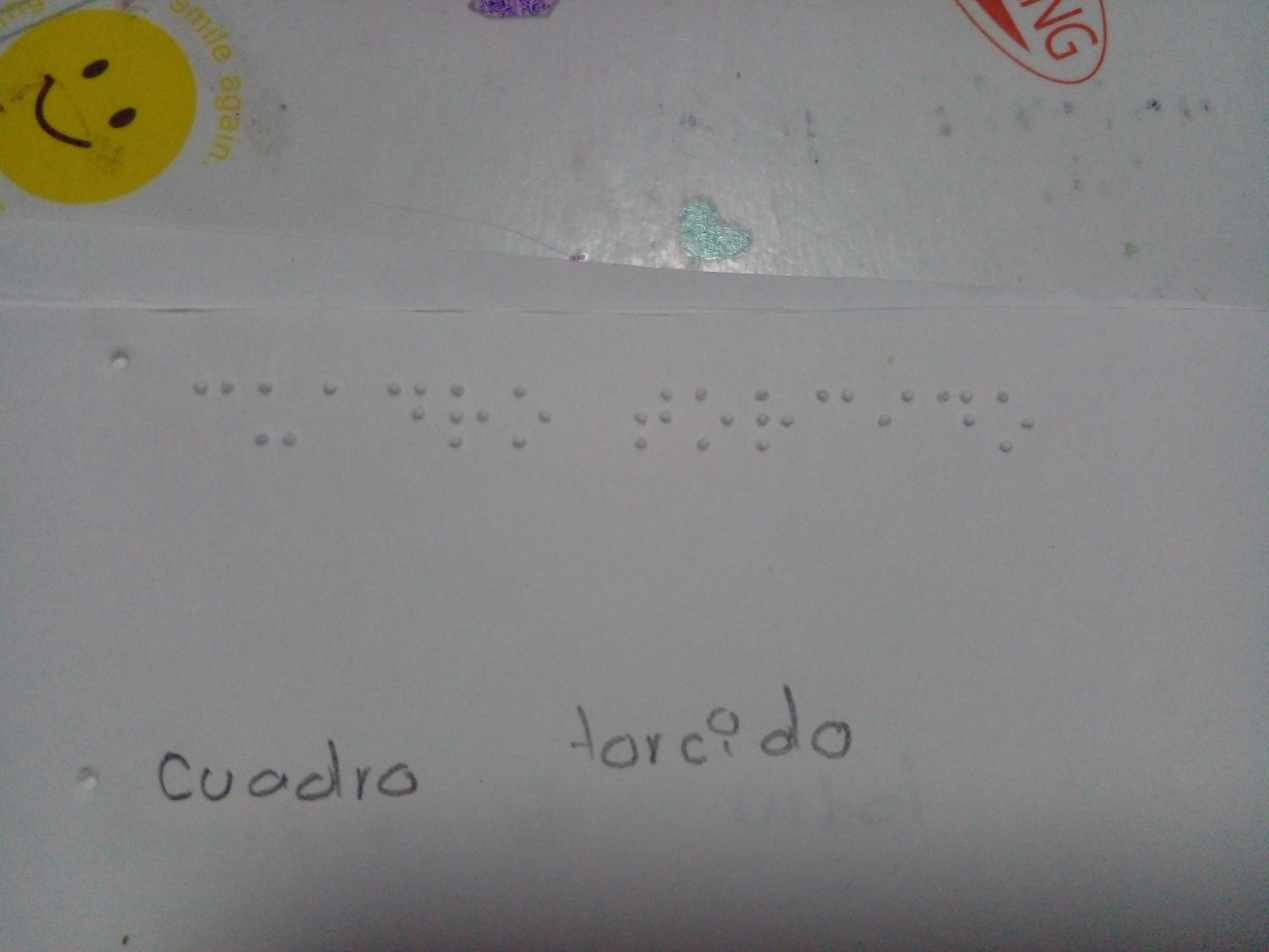a: (310, 372, 345, 415)
c: (809, 375, 860, 451), (192, 372, 237, 445)
d: (926, 366, 982, 452), (370, 377, 434, 431)
i: (872, 380, 916, 446)
o: (685, 380, 740, 462), (502, 386, 556, 460), (996, 386, 1043, 463)
r: (438, 377, 497, 454), (745, 377, 801, 457)
t: (623, 380, 678, 454)
u: (248, 375, 304, 462)
